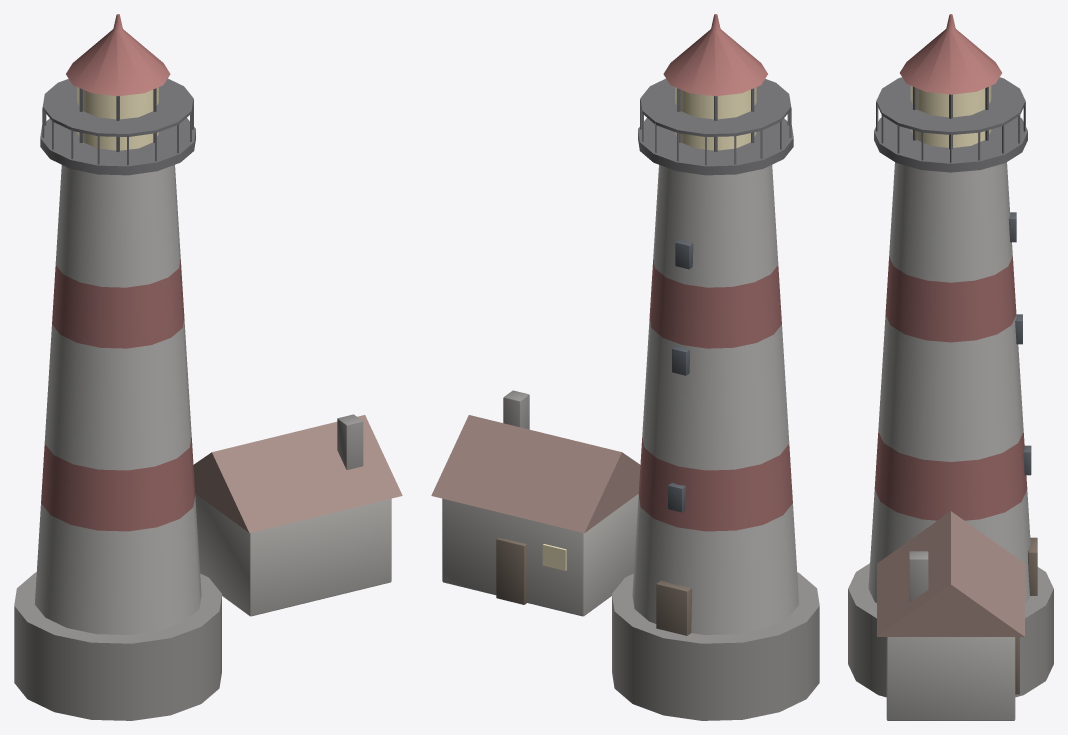
The model's file is lighthouse.gltf.
3 views of the same model, side by side, from view 1: azimuth 30°, elevation 25°; view 2: azimuth 150°, elevation 25°; view 3: azimuth 270°, elevation 25° (orthographic).
Parts seen in each view (by area): view 1: Body; view 2: Body; view 3: Body.
Part boxes in pixels (x1,y1,x2,y2): Body: (14, 14, 402, 720); Body: (431, 14, 819, 720); Body: (848, 14, 1053, 720).
Bounding box in the file's own units: 11.9 × 22.3 × 6.4.
